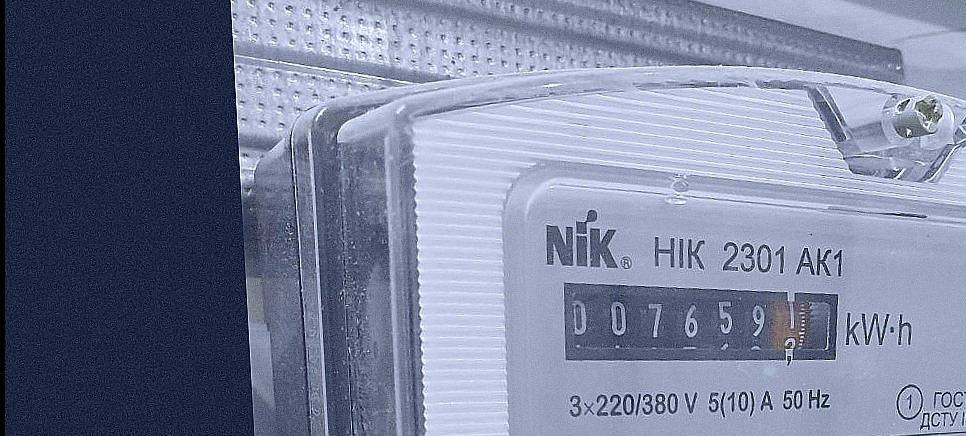0: (606, 295, 632, 338), (567, 294, 592, 337)
1: (783, 298, 802, 332)
5: (715, 297, 737, 336)
6: (680, 299, 703, 339)
7: (645, 298, 666, 339)
9: (749, 301, 768, 339)
screen: (552, 257, 852, 392)
